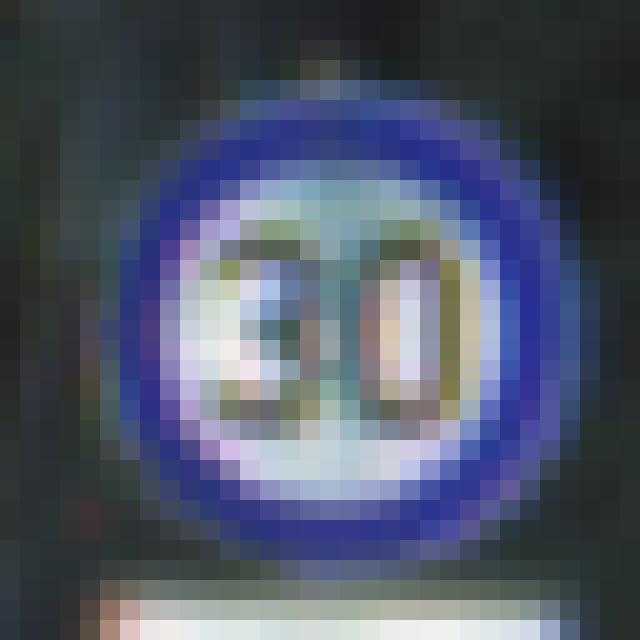SPEED LIMIT 30: (160, 105, 566, 550)
